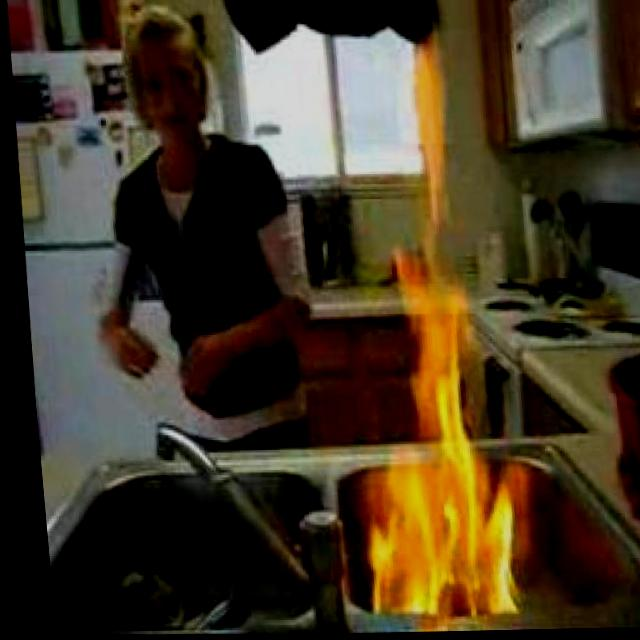helmet: (339, 248, 519, 623), (397, 35, 457, 218)
